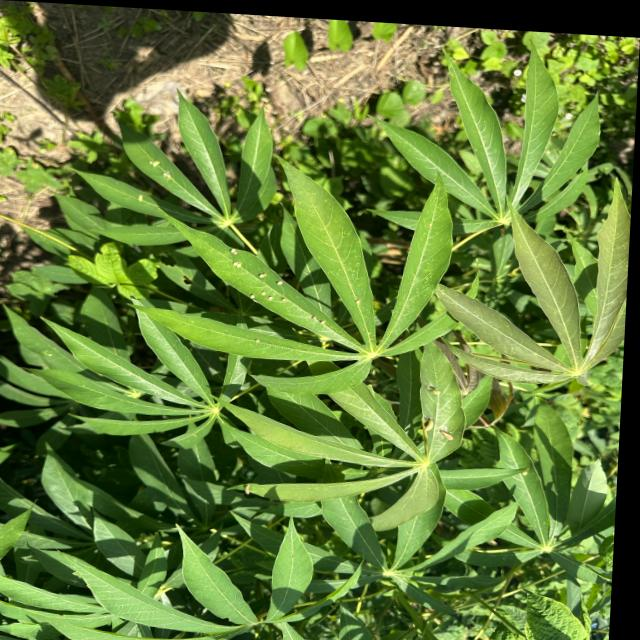Maleza: (71, 240, 163, 296)
Mosca: (222, 239, 280, 307), (407, 412, 462, 443), (138, 149, 176, 185), (113, 179, 151, 210), (306, 305, 333, 345), (418, 376, 448, 403), (245, 331, 265, 348)
